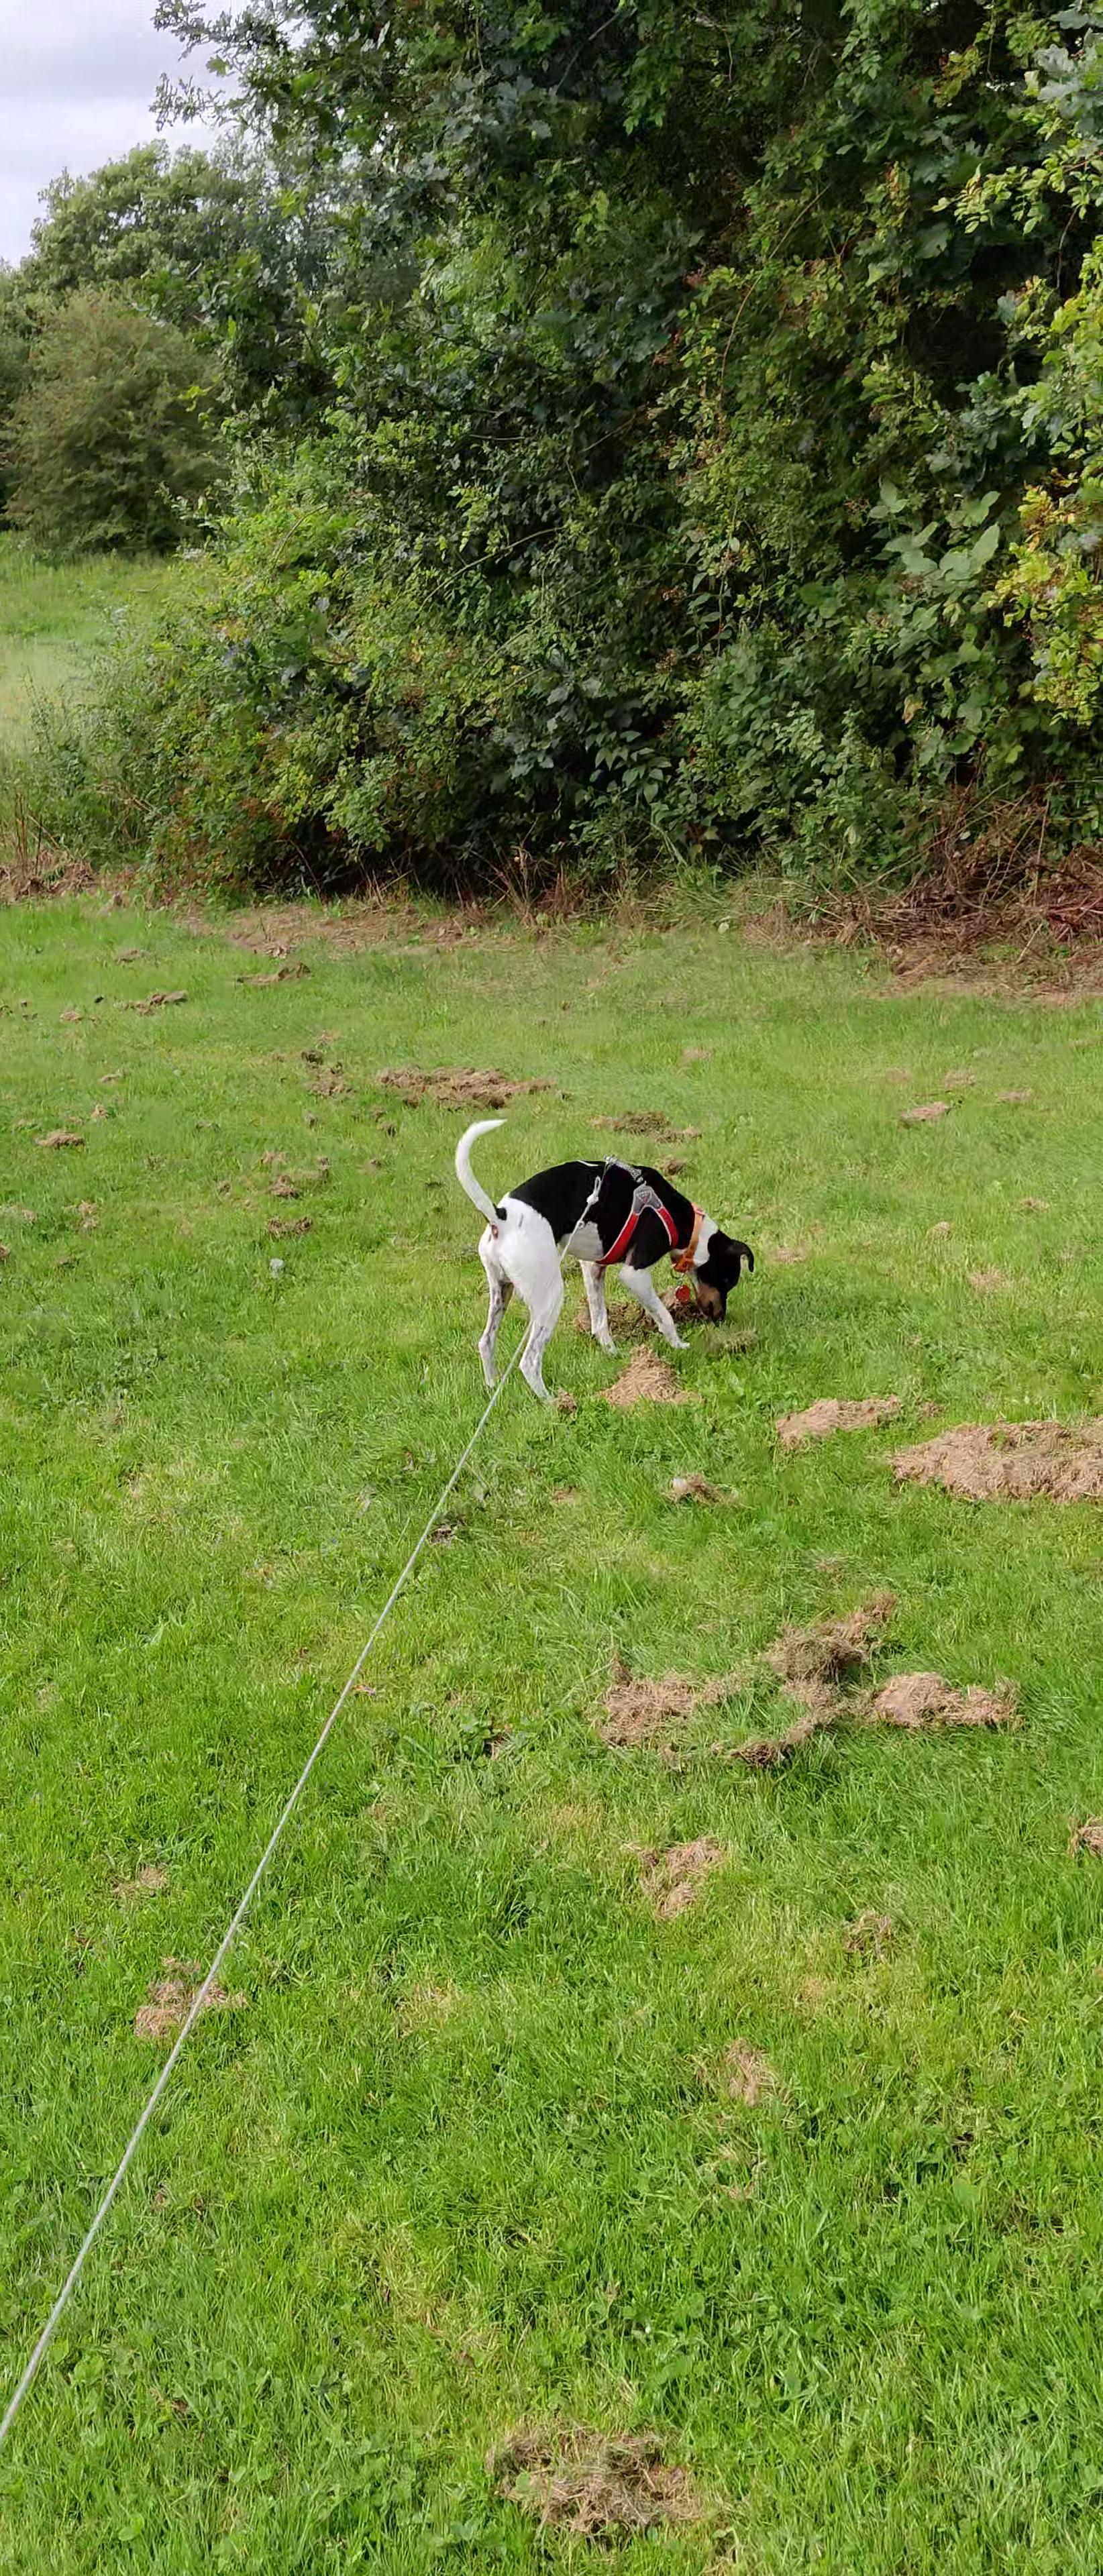Dog: (445, 1114, 759, 1410)
